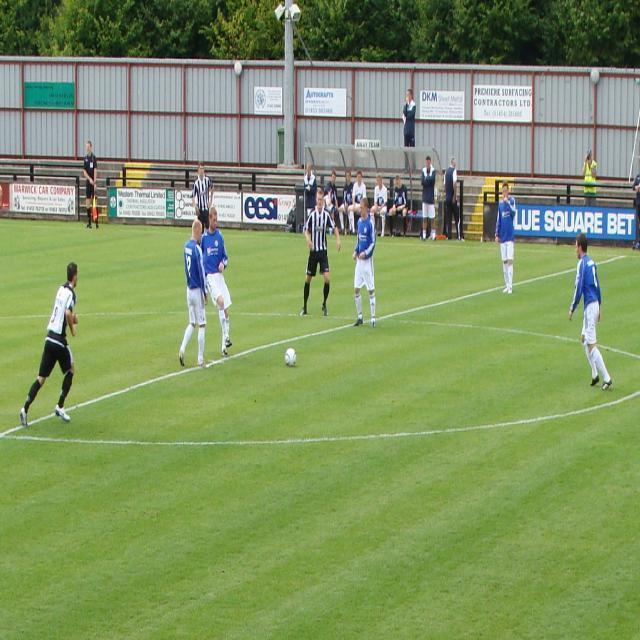football: (274, 346, 317, 375)
